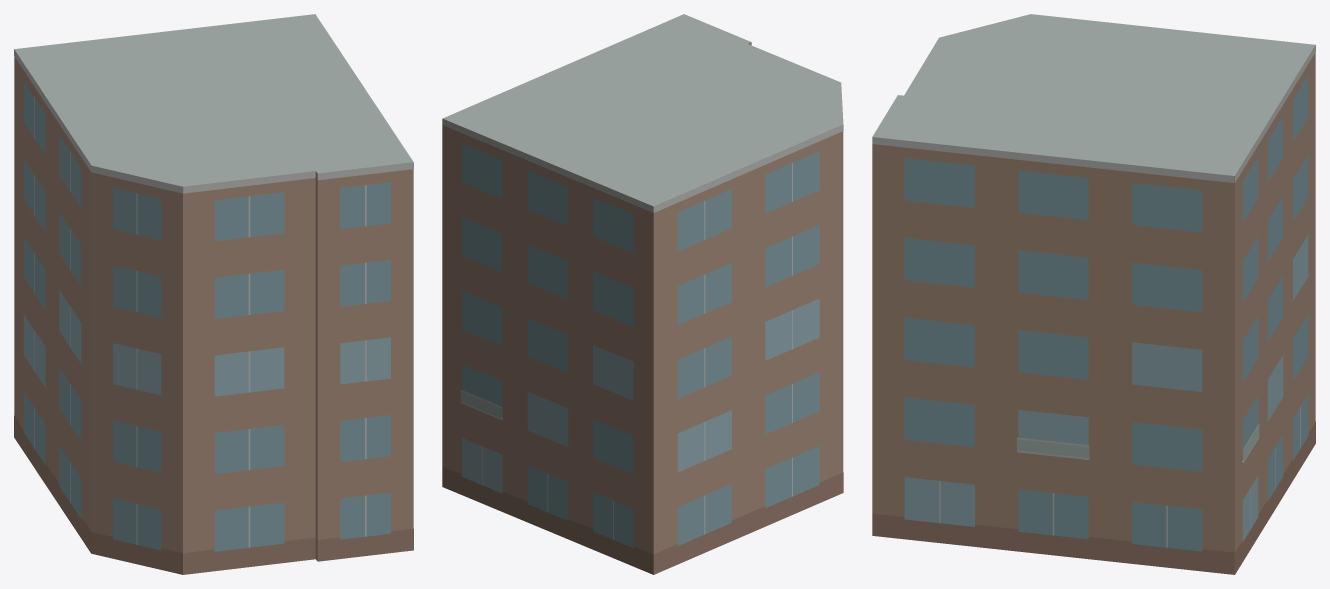
The model's file is survey-upis-32546160.glb.
3 renders of one model, left to right at view 1: azimuth 30°, elevation 25°; view 2: azimuth 150°, elevation 25°; view 3: azimuth 270°, elevation 25°, orthographic. The views are drawn at different scales.
Visible parts, largest first — view 1: survey-upis-32546160.tmp; view 2: survey-upis-32546160.tmp; view 3: survey-upis-32546160.tmp.
Part boxes in pixels (left/top/right/bottom): survey-upis-32546160.tmp: left=14, top=14, right=413, bottom=574; survey-upis-32546160.tmp: left=442, top=14, right=843, bottom=574; survey-upis-32546160.tmp: left=872, top=14, right=1315, bottom=574.
Bounding box in the file's own units: 12.04 × 13.8 × 13.92.
